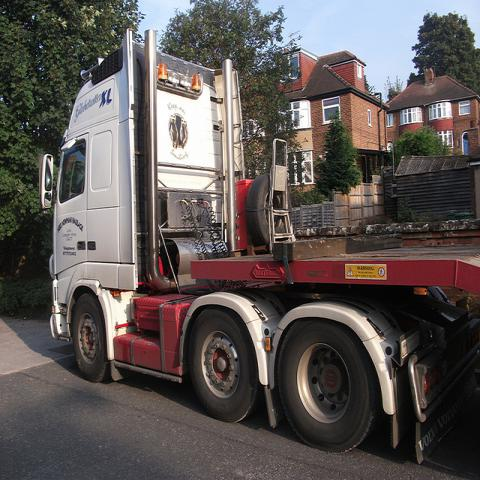truck: (38, 27, 480, 477)
